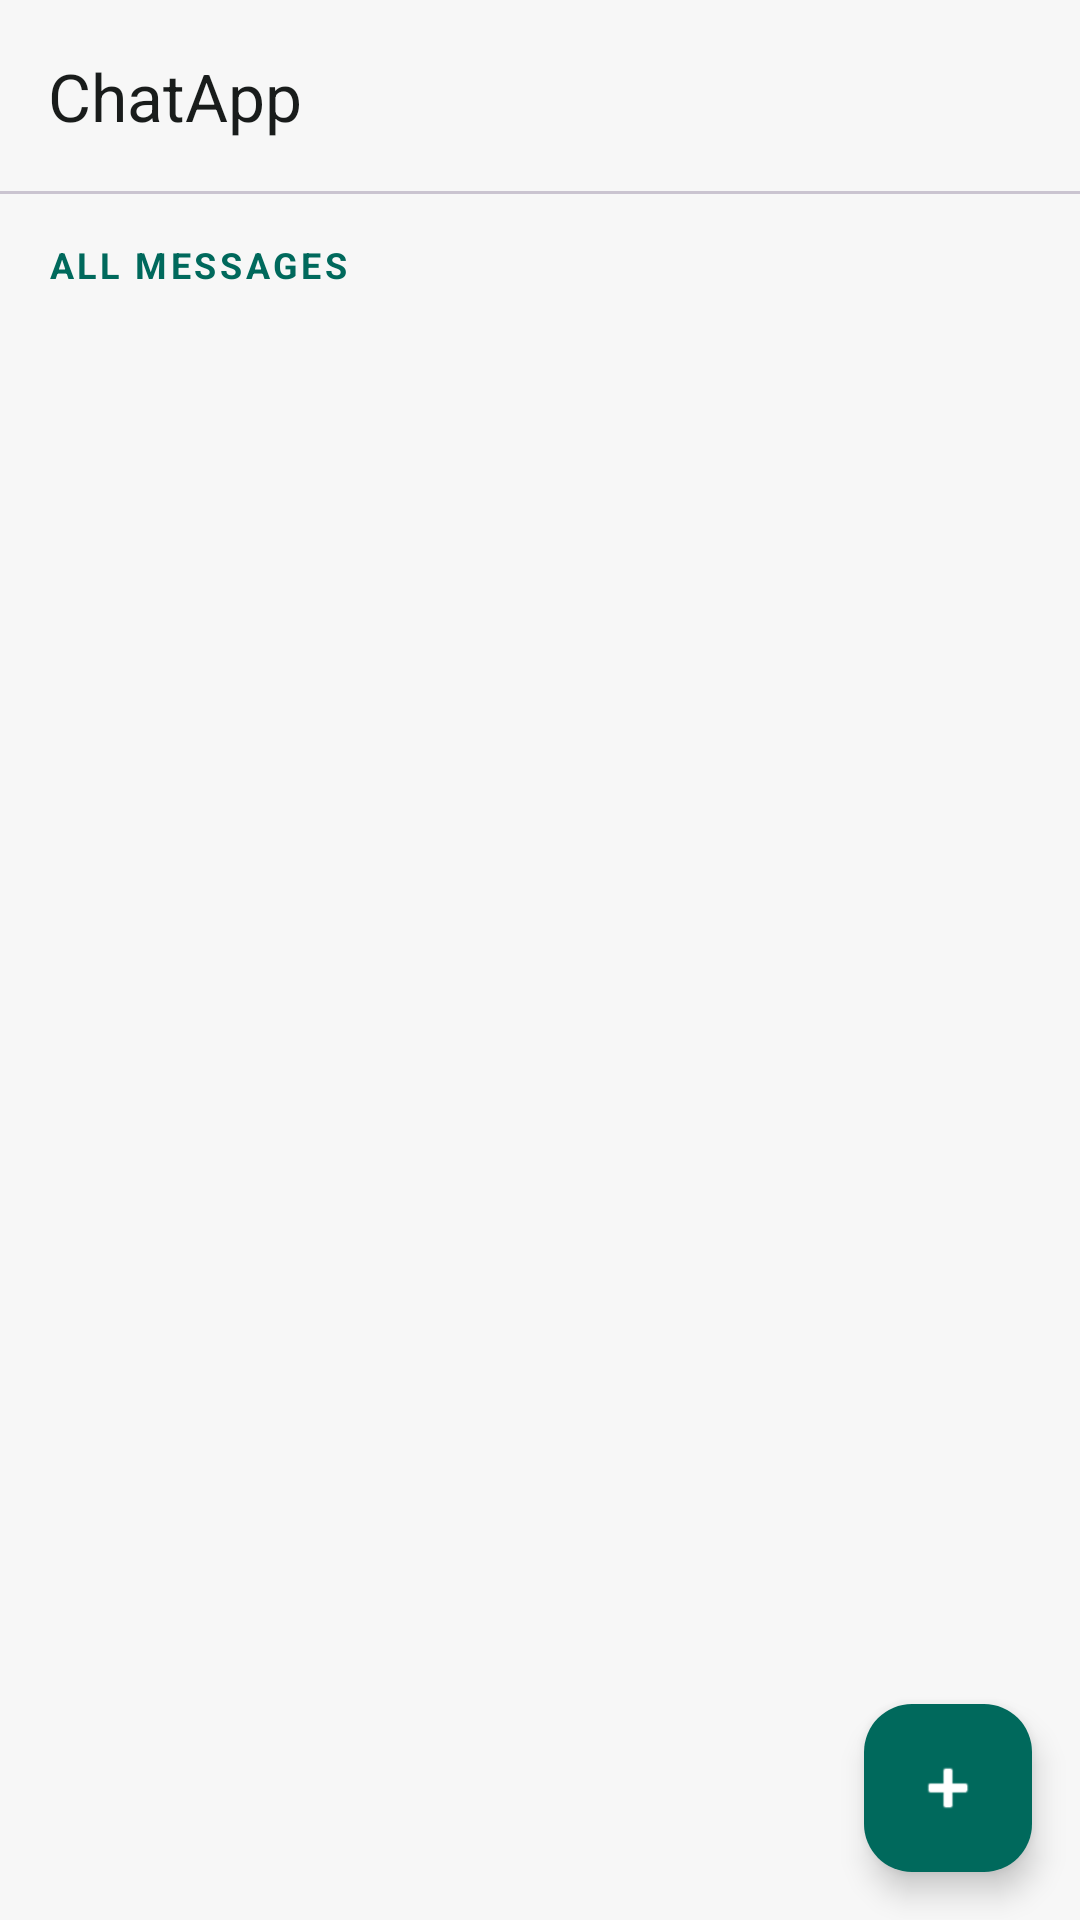

Point at icon controls on the screen. Image size 1080×1920, points as (x,y).
New Chat: (948,1788)
